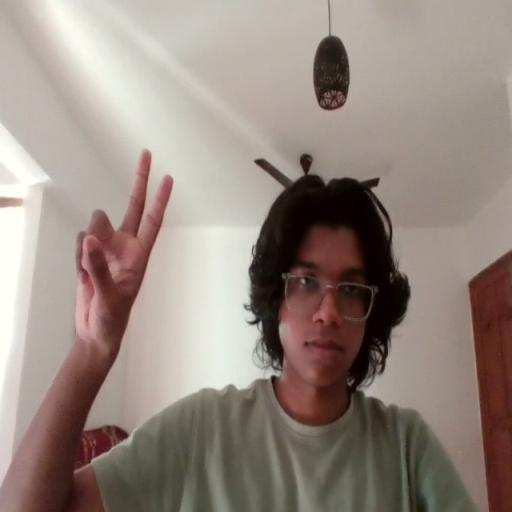scissor: (67, 148, 174, 350)
